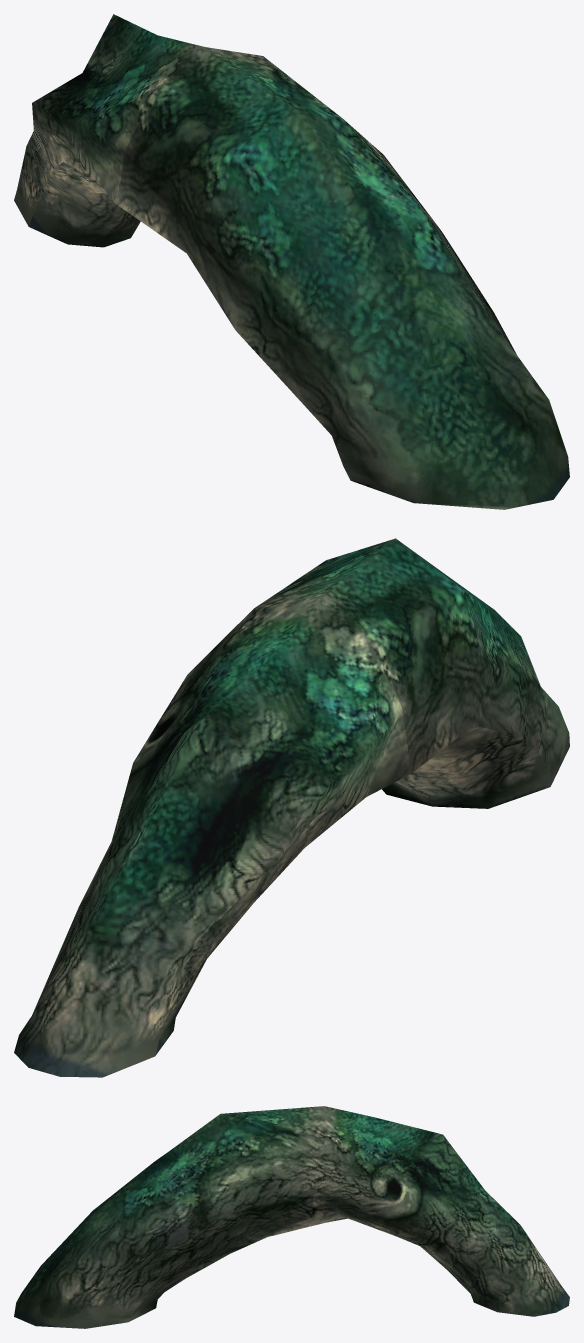
The model's file is dro_root_small.glb.
The picture shows the model from 3 angles, top to bottom: view 1: azimuth 30°, elevation 25°; view 2: azimuth 150°, elevation 25°; view 3: azimuth 270°, elevation 25°; orthographic projection. The views are drawn at different scales.
Parts seen in each view (by area): view 1: dro_root_small; view 2: dro_root_small; view 3: dro_root_small.
Boxes of the visible parts, box(x1,y1,x2,y2) form: dro_root_small: box(14, 14, 569, 509); dro_root_small: box(14, 538, 569, 1077); dro_root_small: box(14, 1106, 569, 1328).
Size of the model in its own units: 0.181 by 0.2177 by 0.6057.
1 material, 1 textured.
